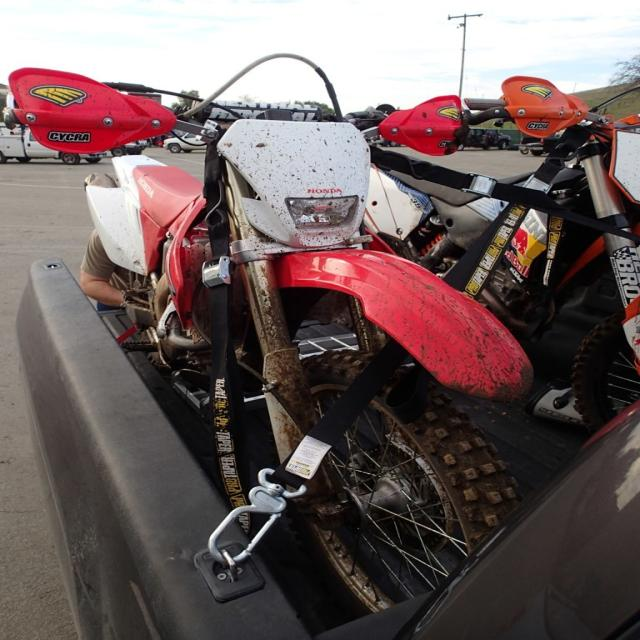Motorbikes: (8, 51, 539, 629)
